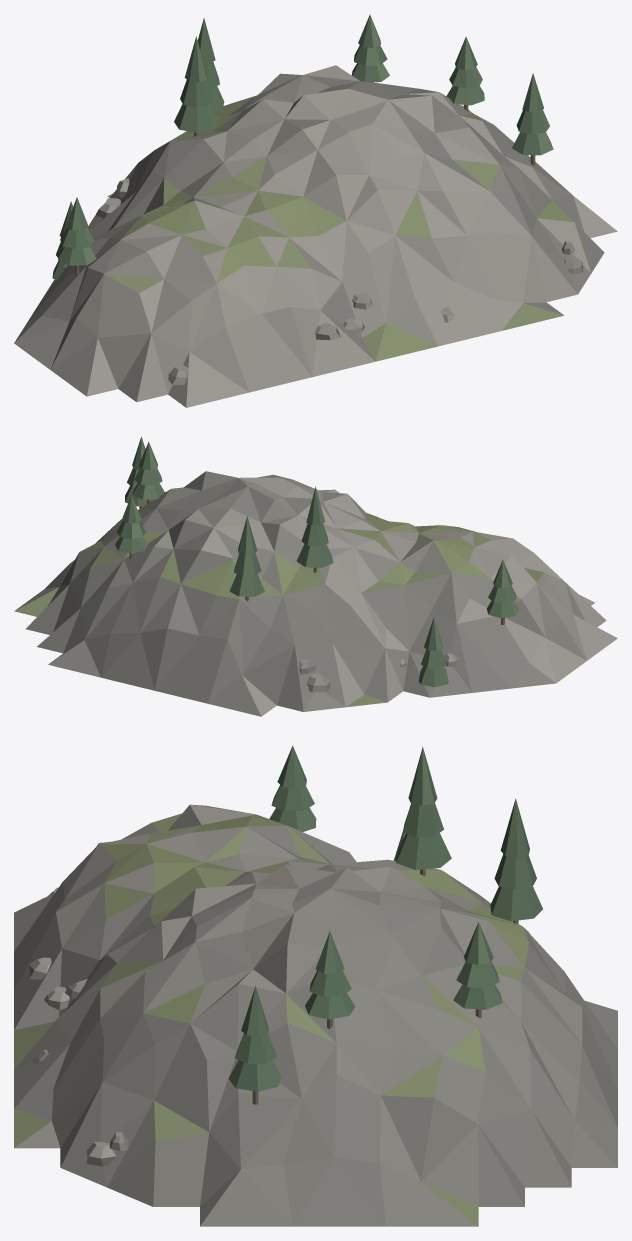
File: berg_grube.glb
3 views of the same model, one above another, from view 1: azimuth 30°, elevation 25°; view 2: azimuth 150°, elevation 25°; view 3: azimuth 270°, elevation 25° (orthographic). The views are drawn at different scales.
Parts seen in each view (by area): view 1: Berg; view 2: Berg; view 3: Berg.
Boxes of the visible parts, <box> form: Berg: <box>14,14,617,407</box>; Berg: <box>14,436,617,716</box>; Berg: <box>14,745,617,1226</box>.
Size of the model in its own units: 45 by 16.16 by 32.5.
